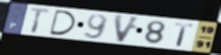8: (144, 20, 169, 45)
9: (82, 14, 112, 40)
D: (48, 9, 78, 37)
T: (28, 6, 52, 35), (174, 22, 196, 48)
V: (113, 13, 143, 44)
